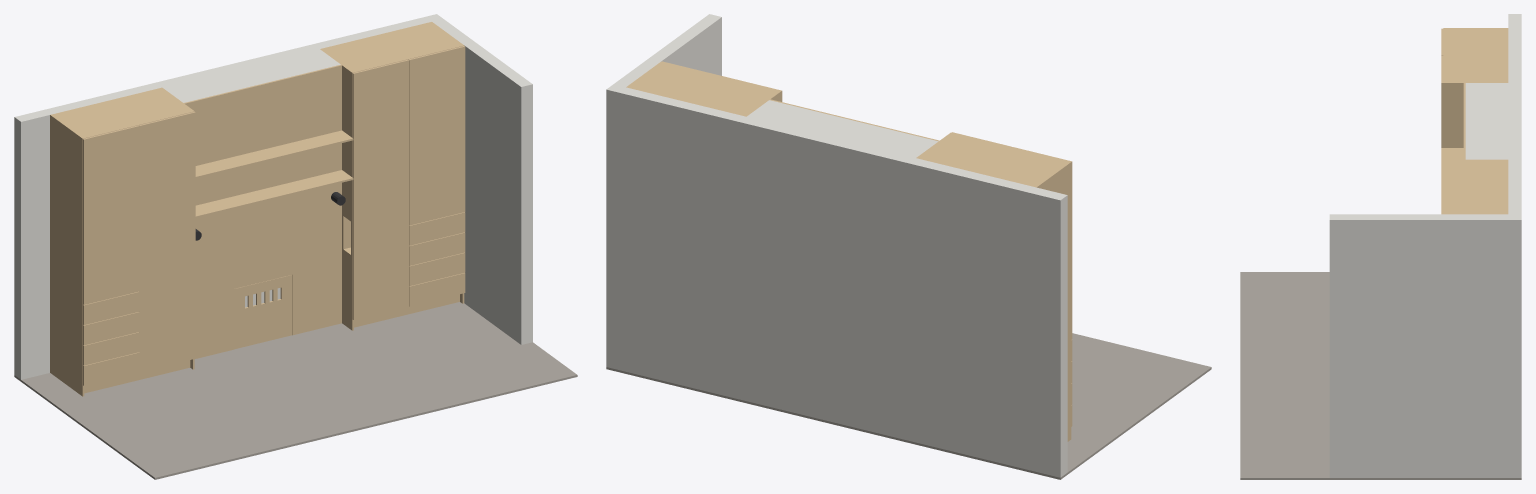
The model's file is b-boxq8b.glb.
The picture shows the model from 3 angles, left to right: view 1: azimuth 30°, elevation 25°; view 2: azimuth 150°, elevation 25°; view 3: azimuth 270°, elevation 25°; orthographic projection. The views are drawn at different scales.
Parts seen in each view (by area): view 1: Room: floor, Chimney breast: Facing panel, Room: side wall, Right wardrobe: Door 1 (hinged left), Left wardrobe: Door 2 (hinged right), Room: back wall, Left wardrobe: Door 1 (hinged left), Right wardrobe: Door 2 (hinged right), Left wardrobe: Side, left, Room: chimney breast, Right wardrobe: Top, Left wardrobe: Top (+14 smaller); view 2: Room: back wall, Room: floor, Room: side wall, Right wardrobe: Top, Left wardrobe: Top, Room: chimney breast, Left wardrobe: Side, left; view 3: Room: side wall, Room: floor, Right wardrobe: Top, Left wardrobe: Top, Room: chimney breast, Room: back wall, Left wardrobe: Side, right (with the niche).
Boxes of the visible parts, x1,y1,x2,y2 form: Room: floor: (14,302,577,479); Chimney breast: Facing panel: (184,64,341,358); Room: side wall: (425,14,532,344); Right wardrobe: Door 1 (hinged left): (352,59,409,319); Left wardrobe: Door 2 (hinged right): (139,111,195,371); Room: back wall: (14,17,431,379); Left wardrobe: Door 1 (hinged left): (83,125,139,304); Right wardrobe: Door 2 (hinged right): (408,46,465,225); Left wardrobe: Side, left: (50,114,84,396); Room: chimney breast: (162,49,340,307); Right wardrobe: Top: (322,22,462,72); Left wardrobe: Top: (52,88,192,138); Room: back wall: (618,87,1067,477); Room: floor: (606,333,1211,479); Room: side wall: (606,14,721,369); Right wardrobe: Top: (628,62,778,116); Left wardrobe: Top: (918,133,1069,186); Room: chimney breast: (747,100,938,157); Left wardrobe: Side, left: (1035,161,1071,441); Room: side wall: (1329,214,1521,477); Room: floor: (1240,272,1521,479); Right wardrobe: Top: (1443,160,1508,213); Left wardrobe: Top: (1443,29,1508,81); Room: chimney breast: (1465,83,1508,159); Room: back wall: (1508,14,1521,214); Left wardrobe: Side, right (with the niche): (1443,82,1508,147).
Size of the model in its own units: 4.37 by 2.57 by 2.52.
